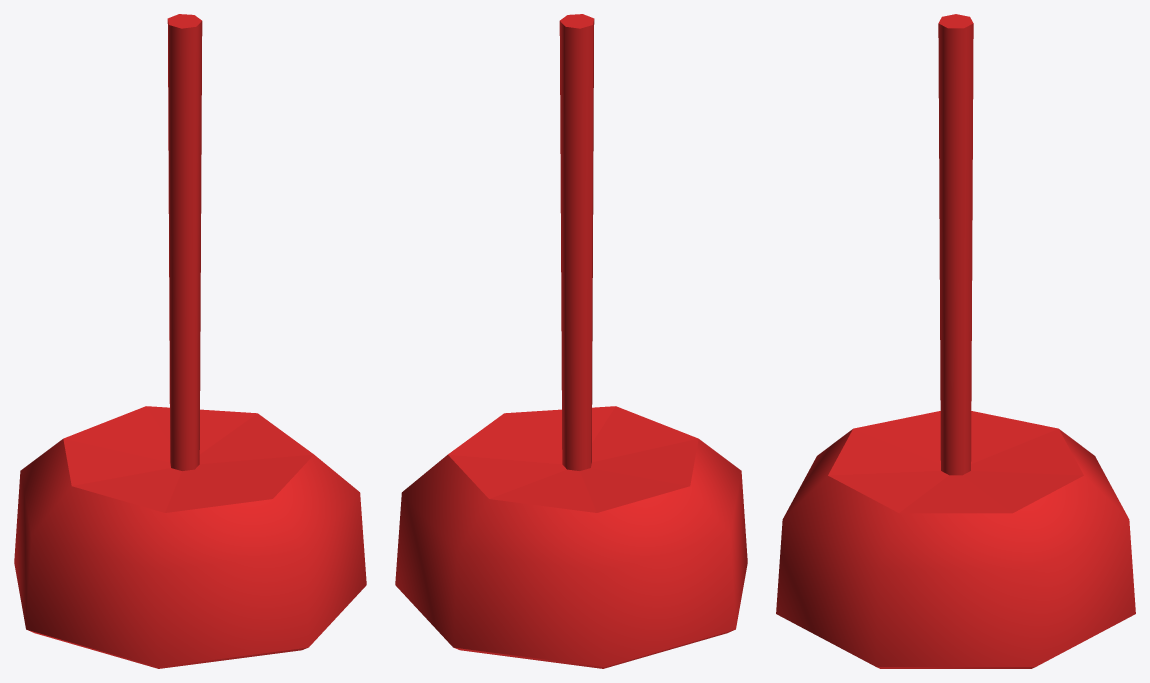
The model's file is Light_Red.fbx.
The picture shows the model from 3 angles, left to right: view 1: azimuth 30°, elevation 25°; view 2: azimuth 150°, elevation 25°; view 3: azimuth 270°, elevation 25°; orthographic projection.
Parts seen in each view (by area): view 1: Light_Red; view 2: Light_Red; view 3: Light_Red.
Boxes of the visible parts, x1,y1,x2,y2 form: Light_Red: (14,14,366,668); Light_Red: (395,14,747,668); Light_Red: (776,14,1135,668).
Bounding box in the file's own units: 38.74 × 75.18 × 39.74.
